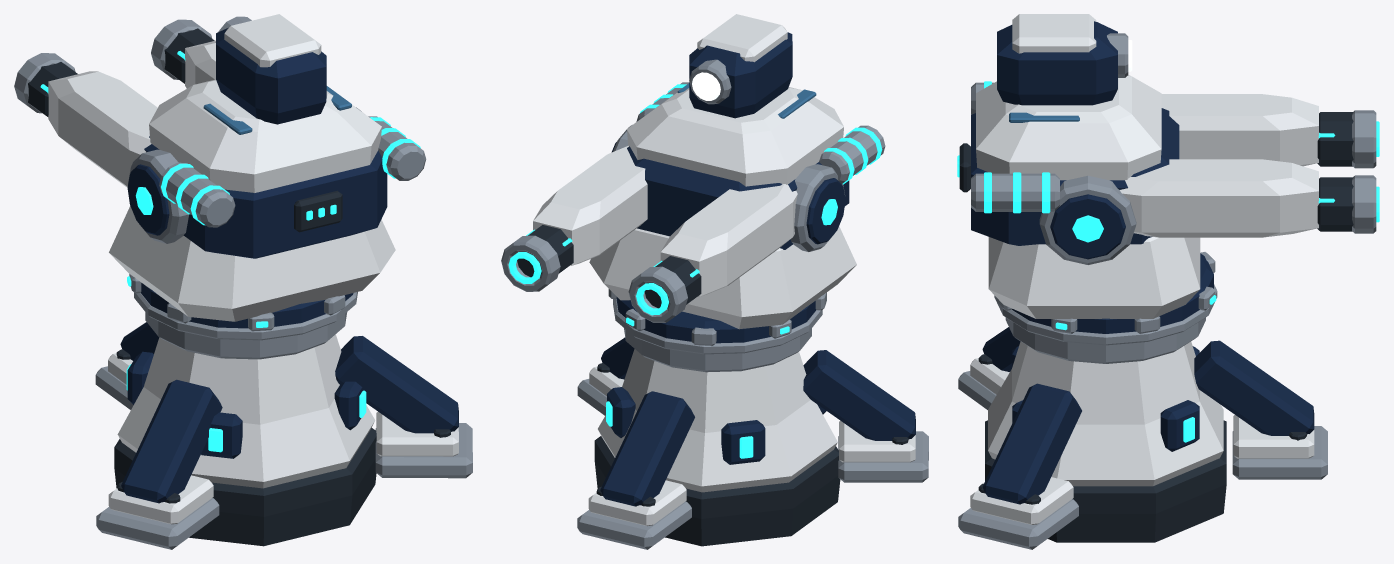
The model's file is helion_defense_turret.glb.
The picture shows the model from 3 angles, left to right: view 1: azimuth 30°, elevation 25°; view 2: azimuth 150°, elevation 25°; view 3: azimuth 270°, elevation 25°; orthographic projection. The views are drawn at different scales.
Visible parts, largest first — view 1: Foundation and chassis, Elevation assembly, Traverse assembly; view 2: Foundation and chassis, Elevation assembly, Traverse assembly; view 3: Elevation assembly, Foundation and chassis, Traverse assembly.
Part boxes in pixels (<box>): Foundation and chassis: <box>95,312,472,549</box>; Elevation assembly: <box>14,14,426,258</box>; Traverse assembly: <box>109,107,395,340</box>; Foundation and chassis: <box>577,328,928,549</box>; Elevation assembly: <box>501,14,885,322</box>; Traverse assembly: <box>589,125,856,354</box>; Elevation assembly: <box>957,14,1379,245</box>; Foundation and chassis: <box>958,317,1327,549</box>; Traverse assembly: <box>988,175,1217,345</box>.
Size of the model in its own units: 2.8 by 3.45 by 2.8.
